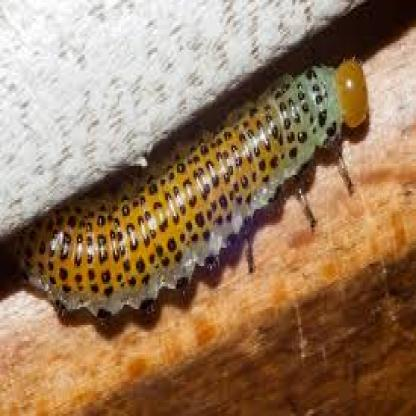sawfly: (7, 57, 383, 327)
